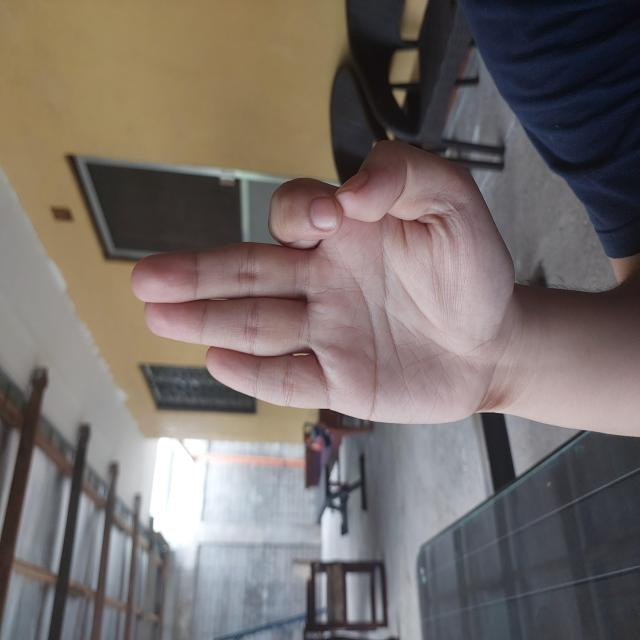F: (213, 128, 503, 518)
